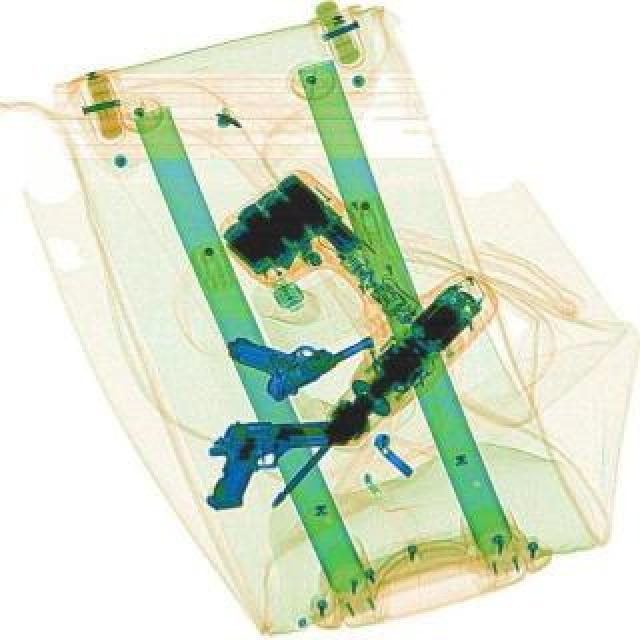gun: (228, 282, 384, 410), (206, 420, 354, 514)
